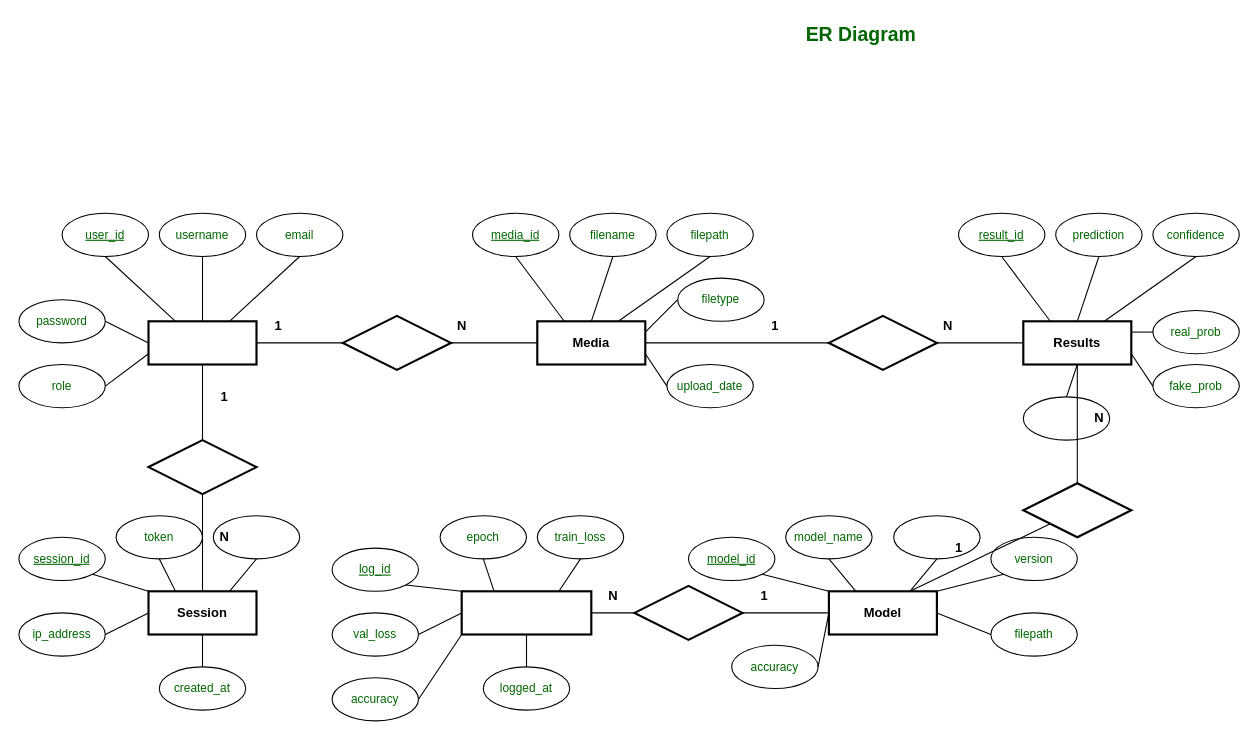
Image size: 1258x740. Some labels were removed from this diagram. The shapes that lost their labels are listed below. From the top down, each one's box as (x1, y1, x2, y2) in pixels, then its label:
(147, 320, 257, 365): Users
(341, 314, 451, 370): Uploads
(827, 314, 937, 370): Analyzes
(1022, 396, 1110, 440): timestamp
(147, 438, 257, 495): Login
(1022, 482, 1132, 538): Uses
(212, 515, 300, 559): expires_at
(893, 515, 980, 559): architecture
(460, 590, 592, 635): TrainingLogs
(633, 584, 743, 640): Records
